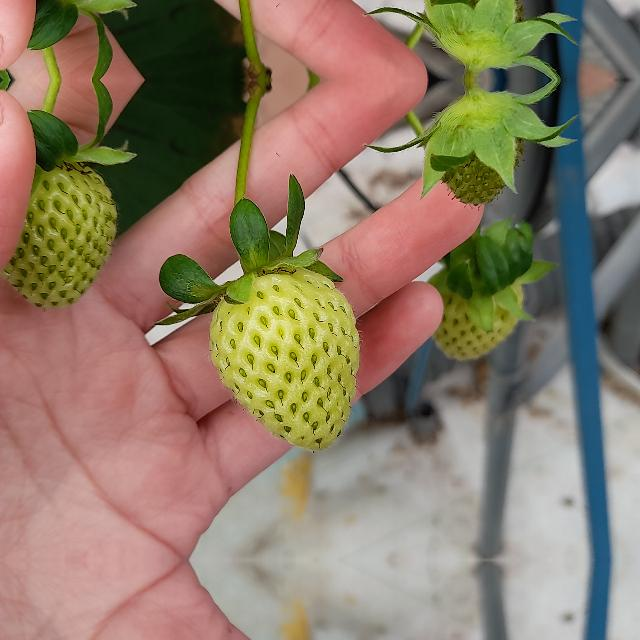Health_25: (208, 268, 359, 450), (12, 142, 116, 302), (426, 91, 520, 207), (429, 252, 521, 358), (425, 0, 520, 69)
